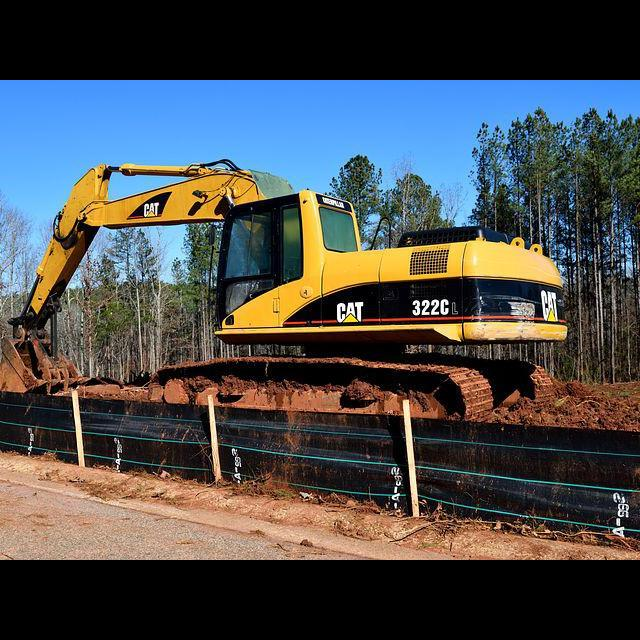Excavator: (0, 156, 593, 404)
